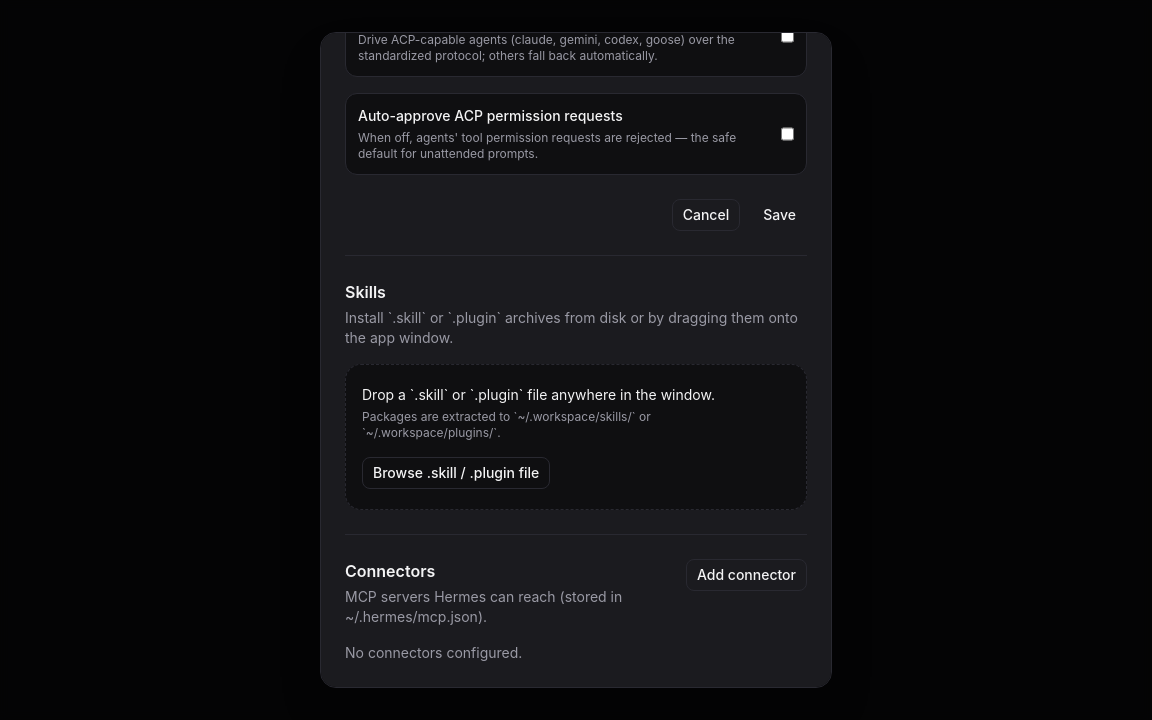
it: Settings connectors section › adds a connector through the form and shows the restart notice
(page scrolled)
Click the button "Add connector". click: click(746, 575)
box: [686,559,807,591]
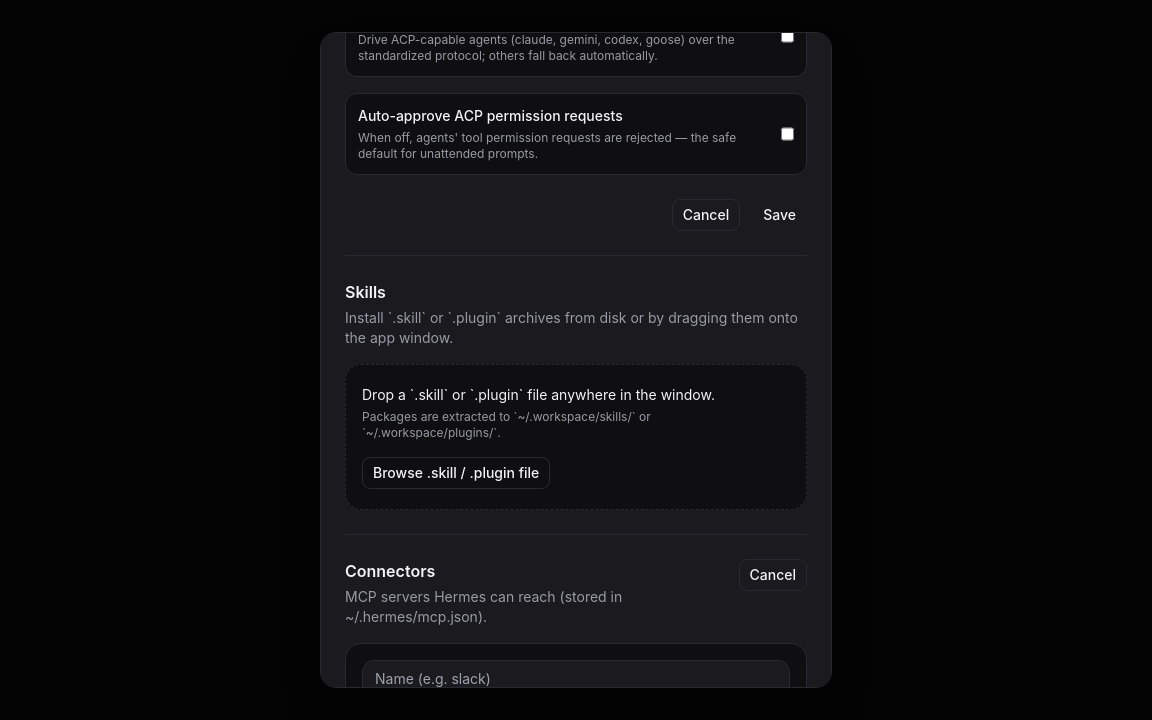
Type "gmail" into the field named "Connector name". click: (576, 679)
box: [362,660,790,698]
(page scrolled)
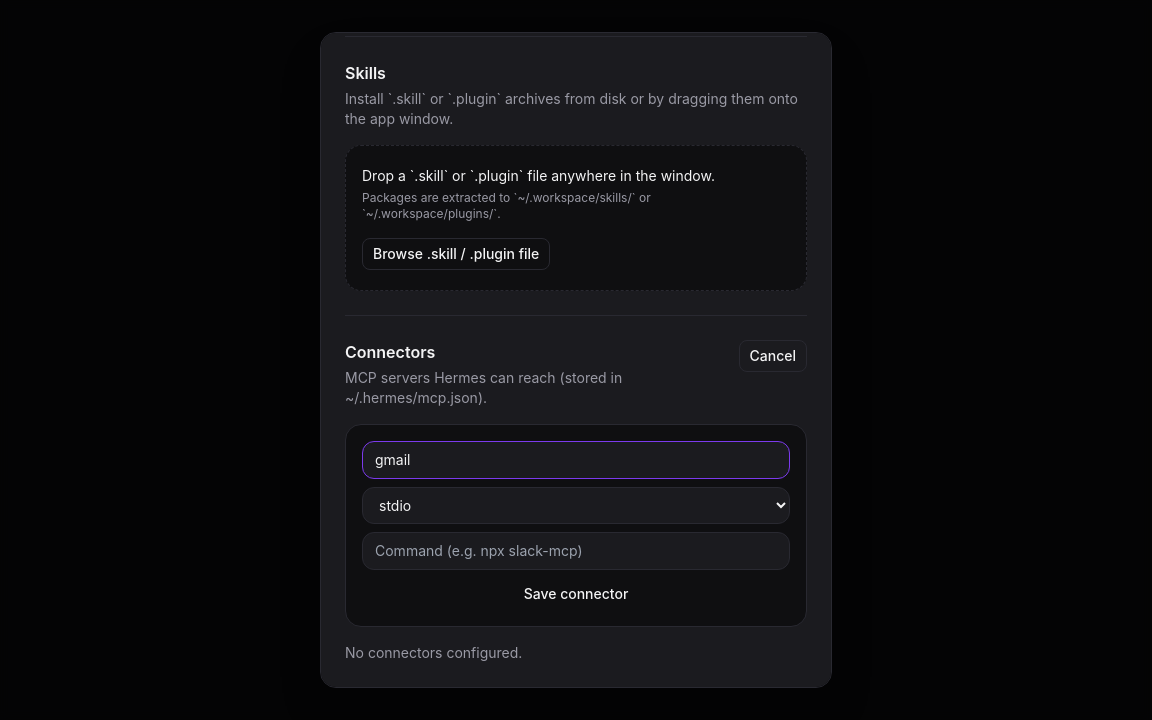
Type "npx gmail-mcp" into the field named "Connector command". click: (576, 551)
box: [362,532,790,570]
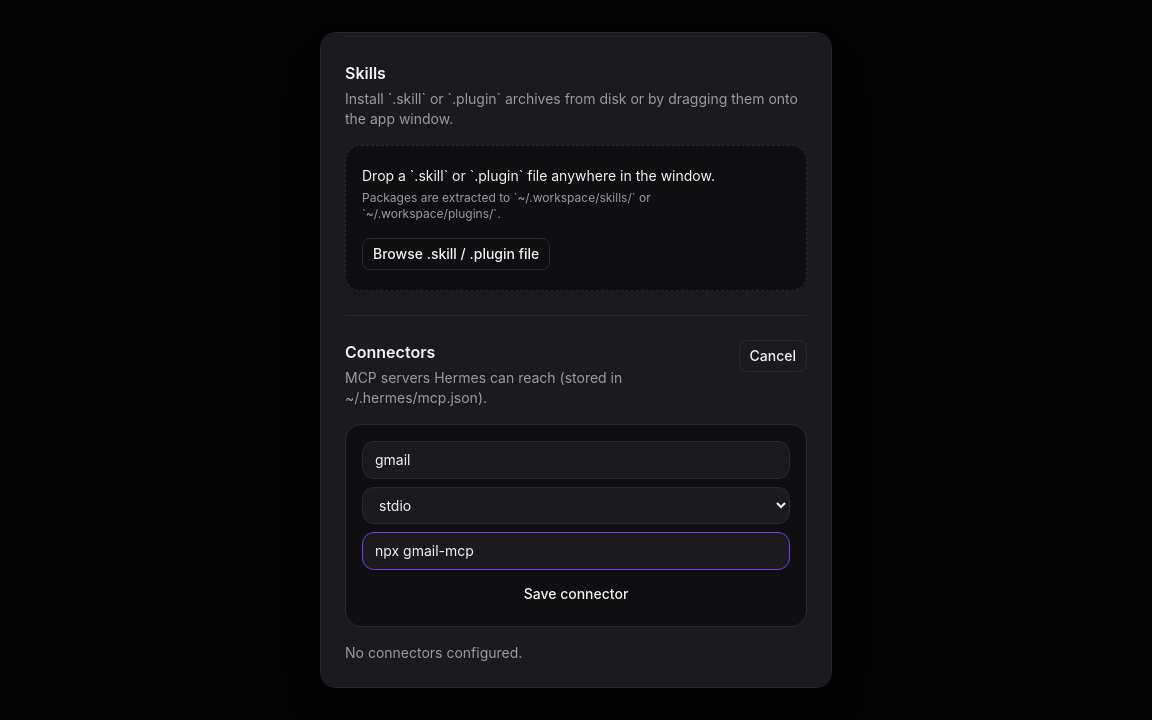
Click the button "Save connector". click: click(576, 594)
box: [362,578,790,610]
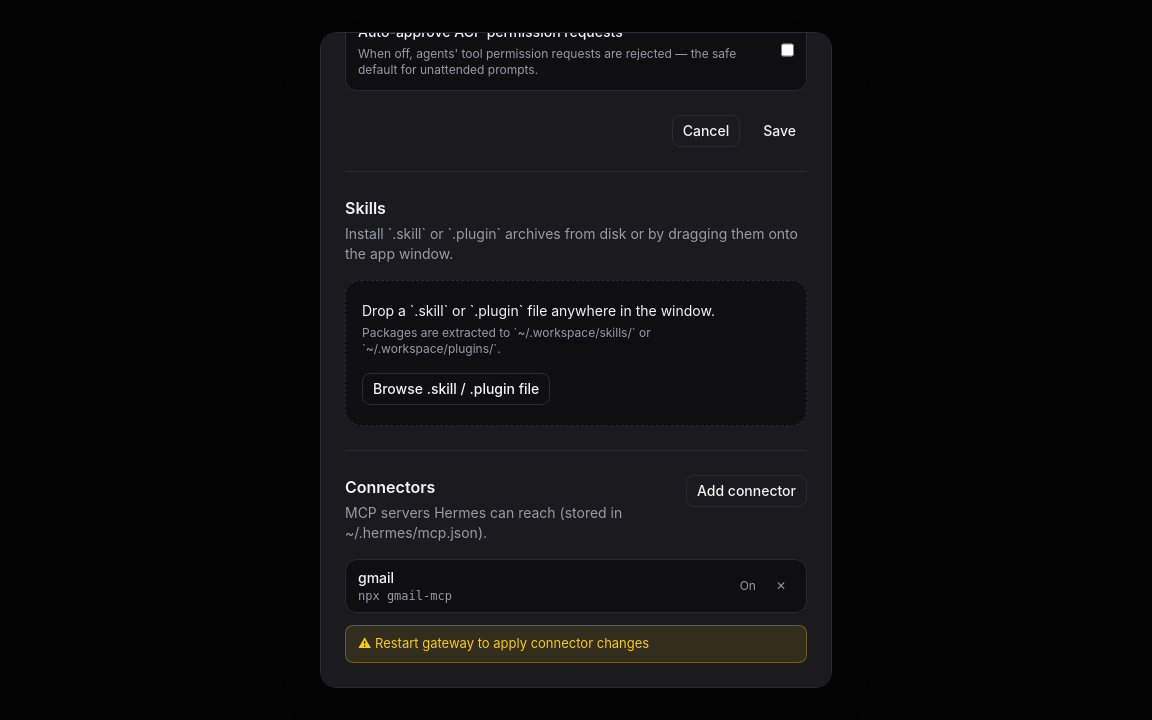
Expected: the text "⚠ Restart gateway to apply connector changes" is shown, [345,625,807,662]
